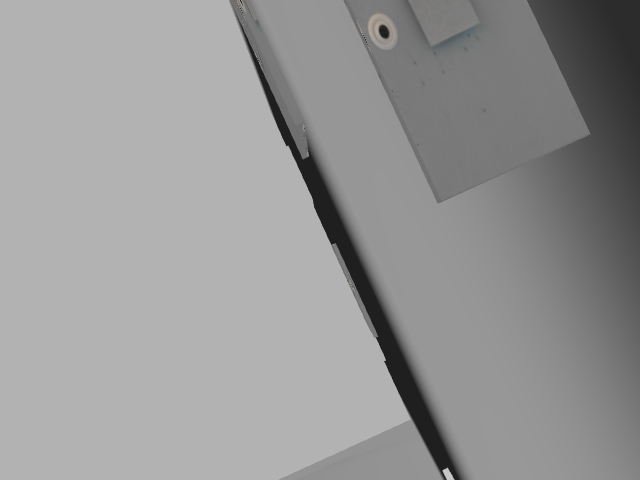facade: (367, 0, 486, 59)
